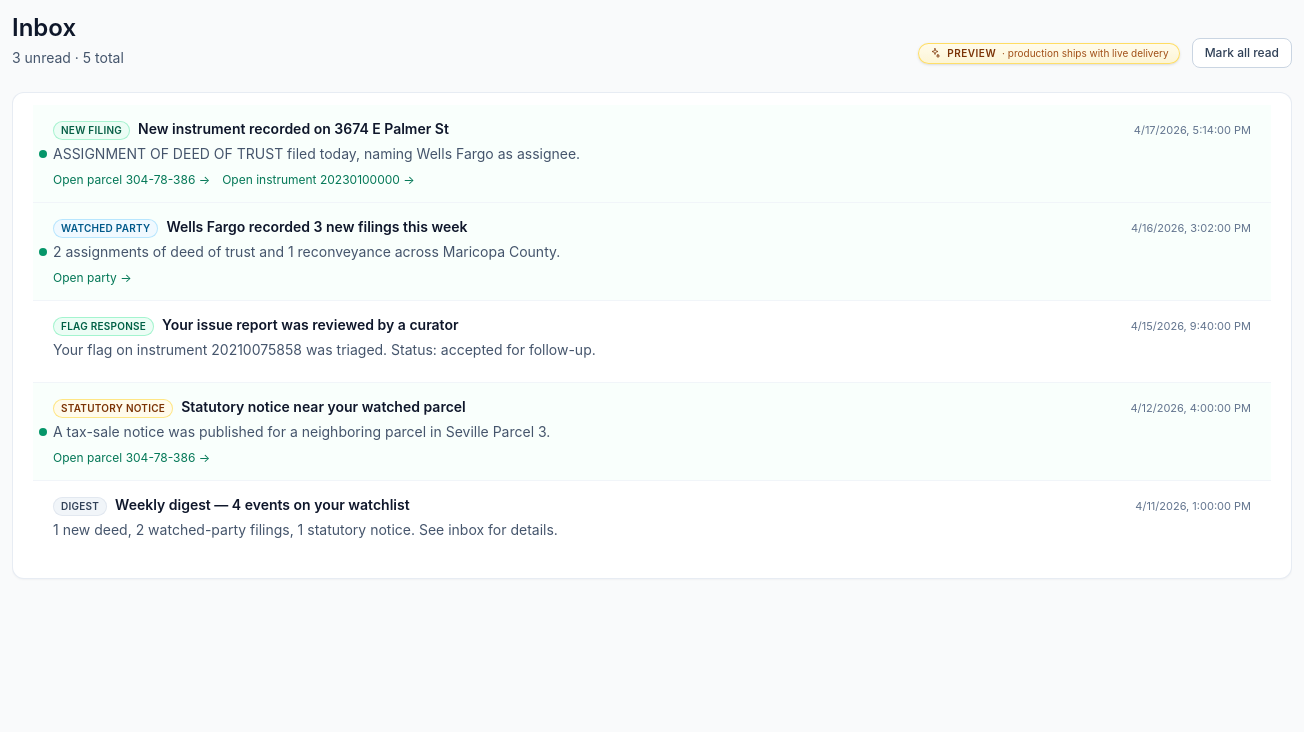
Test case: AccountInbox › mark-all-read zeroes the unread count
Click the button "Mark all read": (1242, 53) [1192, 38, 1292, 68]
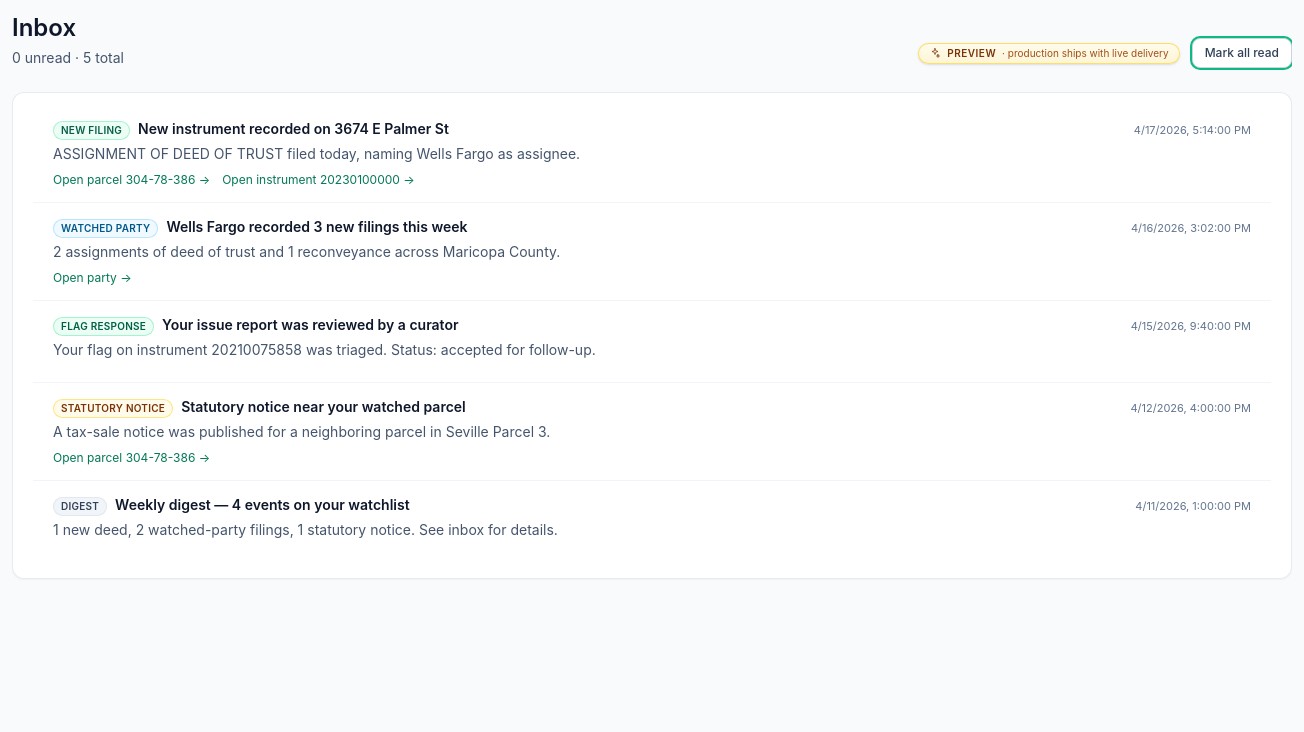
Now the text with test id "unread-count" reads "0", box [12, 49, 21, 66]
